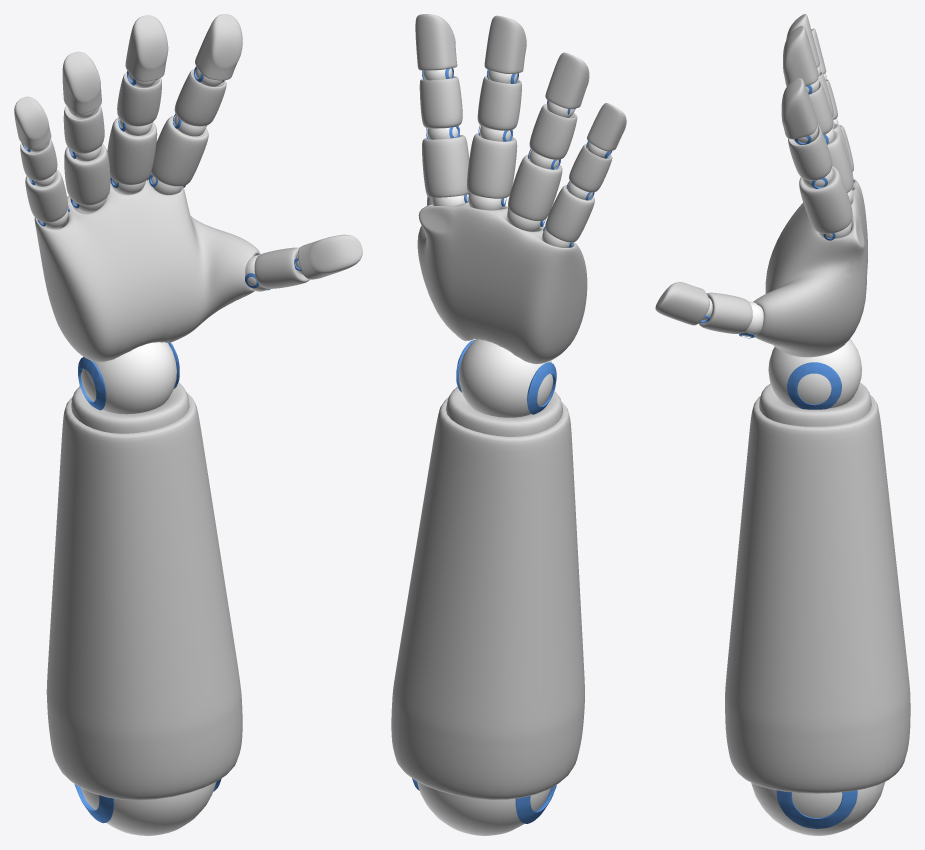
3 renders of one model, left to right at view 1: azimuth 30°, elevation 25°; view 2: azimuth 150°, elevation 25°; view 3: azimuth 270°, elevation 25°, orthographic. The views are drawn at different scales.
Visible parts, largest first — view 1: Cube.008; view 2: Cube.008; view 3: Cube.008.
Boxes of the visible parts, left/top/right/bottom form: Cube.008: left=14, top=14, right=362, bottom=835; Cube.008: left=391, top=14, right=626, bottom=835; Cube.008: left=655, top=14, right=910, bottom=835.
Bounding box in the file's own units: 10.97 × 31.77 × 9.22.
